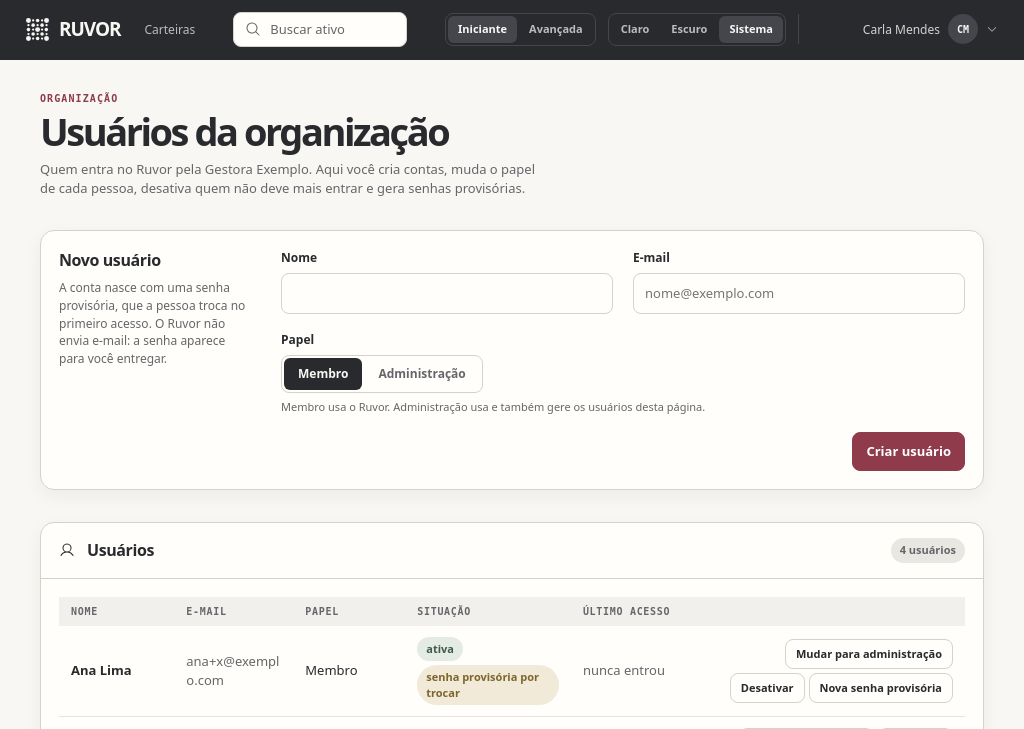
Scenario: criar (RF-13) › 201: o diálogo com a senha, uma vez, e a lista relida da primeira página
The width and height of the screenshot is (1024, 729).
In the field labelled "Nome": (447, 294) [281,273,613,314], type "Gabriela Rocha"
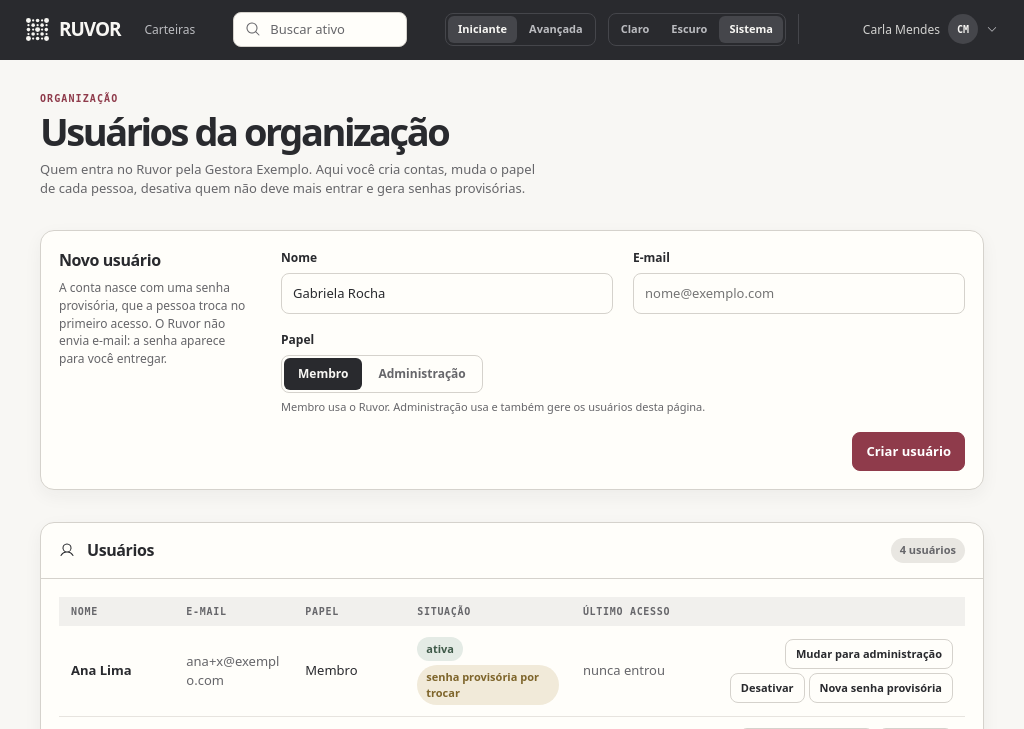
In the field labelled "E-mail": (799, 294) [633,273,965,314], type "gabriela.rocha@exemplo.com"
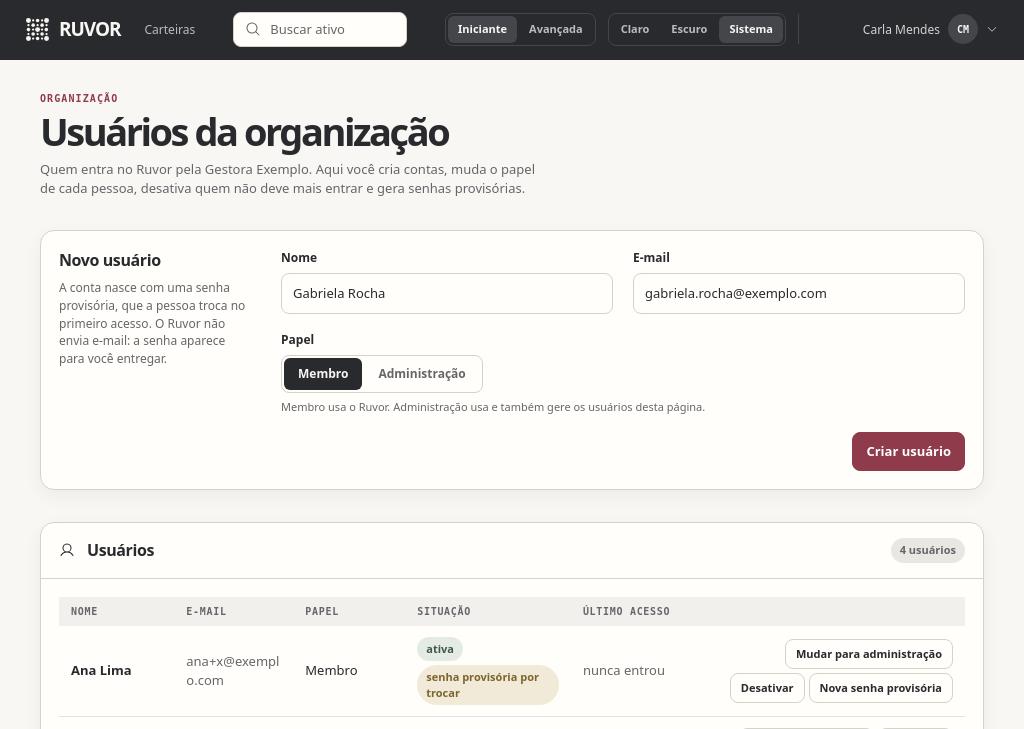
Click the button "Criar usuário": (909, 452) [852,432,965,471]
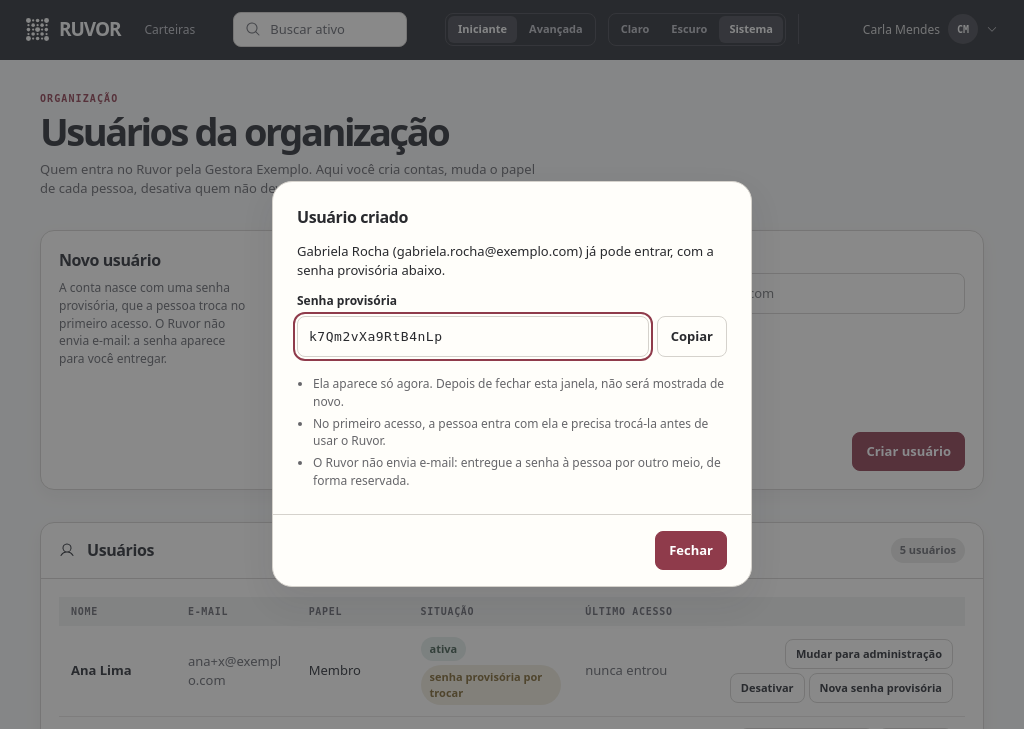
Now the heading "Usuário criado" is shown, box [297,206,408,228]
Now the field showing "k7Qm2vXa9RtB4nLp" is shown, box [297,316,649,357]
Now the list item "Ela aparece só agora. Depois de fechar esta janela, não será mostrada de novo." is shown, box [313,375,727,411]
